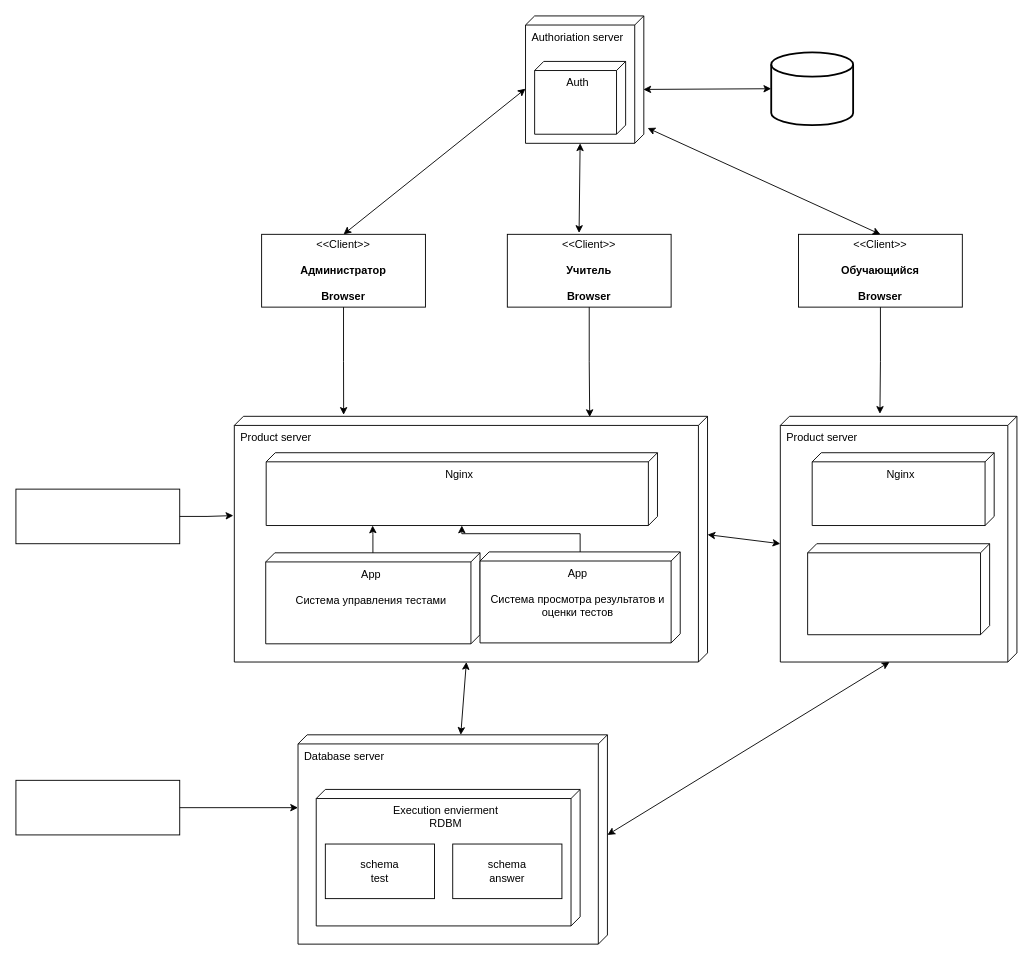
The diagram is 1033 pixels wide and 960 high, and some of its shapes have lost their labels. Each missing label, with the centre of its shape:
"App Система прохождения тестов" goes at point 898,589.
"Auth db" goes at point 812,88.
"Может быть разнесено в кластер (db)" goes at point 97,807.
"Может быть разнесено в кластер (kubernetes)" goes at point 97,516.
